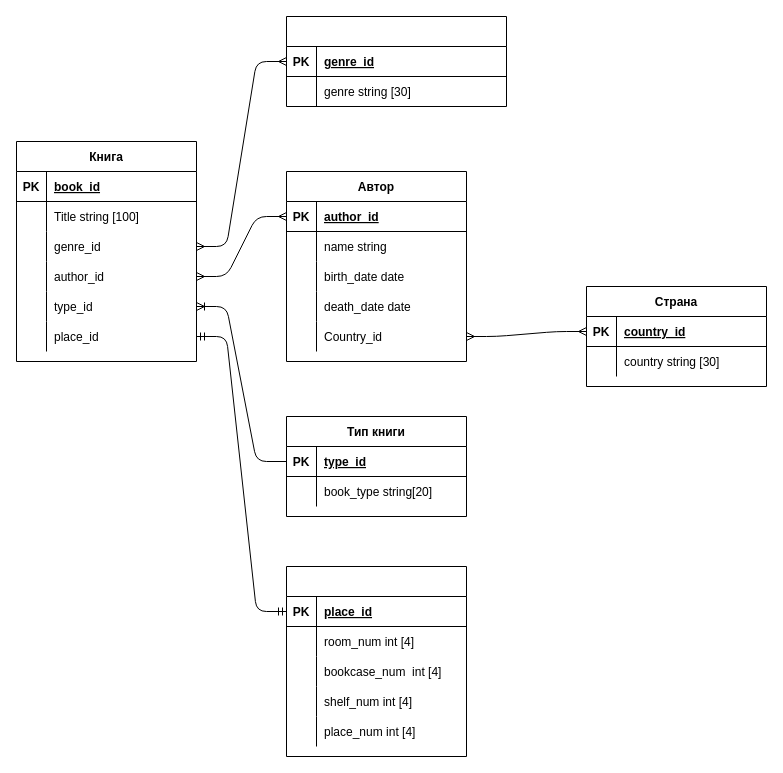
Image size: 783x773. Some labels were removed from this diagram. Each missing label, with the box of its shape:
Жанр: (286, 16, 506, 106)
Место в шкафу: (286, 566, 466, 756)
